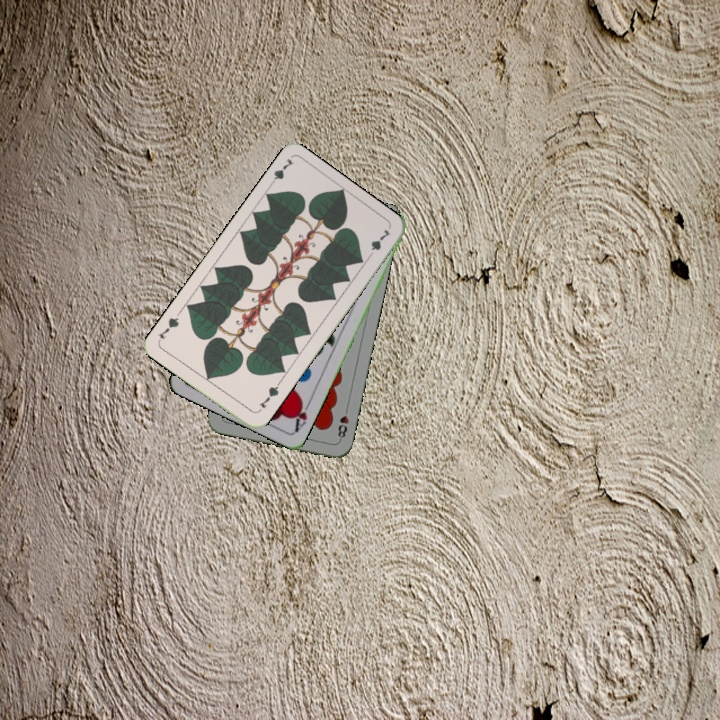G7: (264, 154, 296, 190), (254, 379, 282, 415)
H8: (333, 403, 351, 443)
HA: (289, 396, 314, 434)
